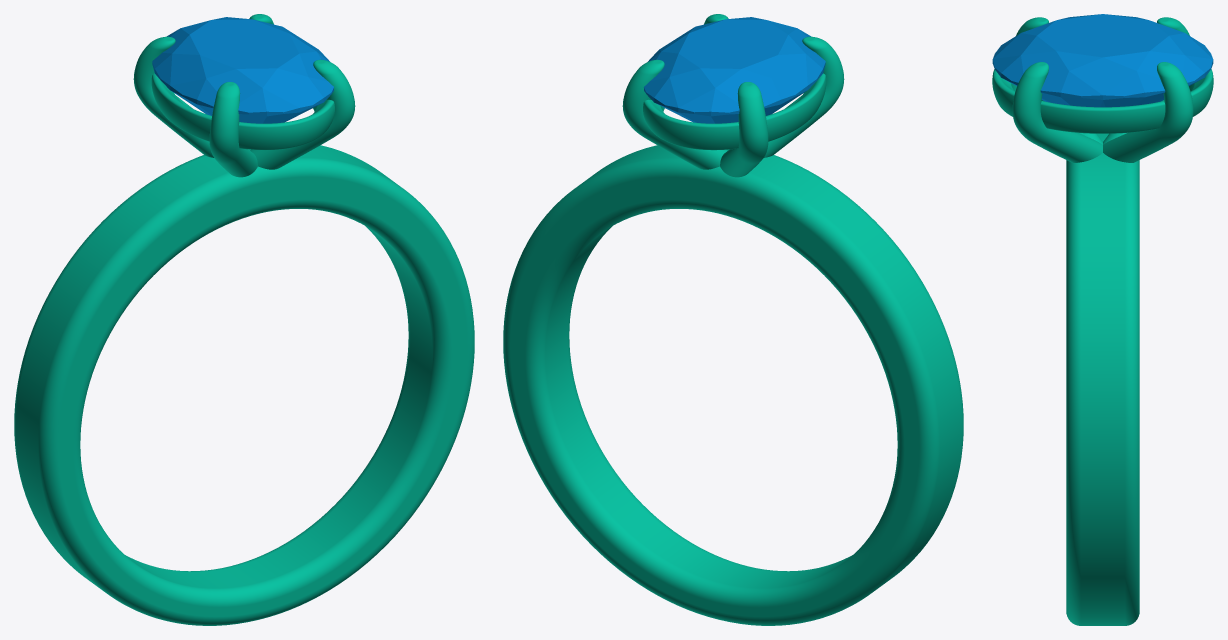
3 renders of one model, left to right at view 1: azimuth 30°, elevation 25°; view 2: azimuth 150°, elevation 25°; view 3: azimuth 270°, elevation 25°, orthographic.
Visible parts, largest first — view 1: RING.JTC.SRO27(front).3dm, Diamond_Oval, Head Rail; view 2: RING.JTC.SRO27(front).3dm, Diamond_Oval, Head Rail; view 3: RING.JTC.SRO27(front).3dm, Diamond_Oval, Head Rail.
Boxes of the visible parts, box(x1,y1,x2,y2) form: RING.JTC.SRO27(front).3dm: box(14, 14, 474, 625); Diamond_Oval: box(152, 17, 333, 123); Head Rail: box(151, 73, 334, 150); RING.JTC.SRO27(front).3dm: box(503, 14, 963, 625); Diamond_Oval: box(644, 17, 825, 123); Head Rail: box(643, 73, 826, 150); RING.JTC.SRO27(front).3dm: box(1012, 17, 1193, 625); Diamond_Oval: box(992, 14, 1213, 107); Head Rail: box(992, 69, 1213, 133).
Size of the model in its own units: 2.41 by 3.01 by 1.06.
